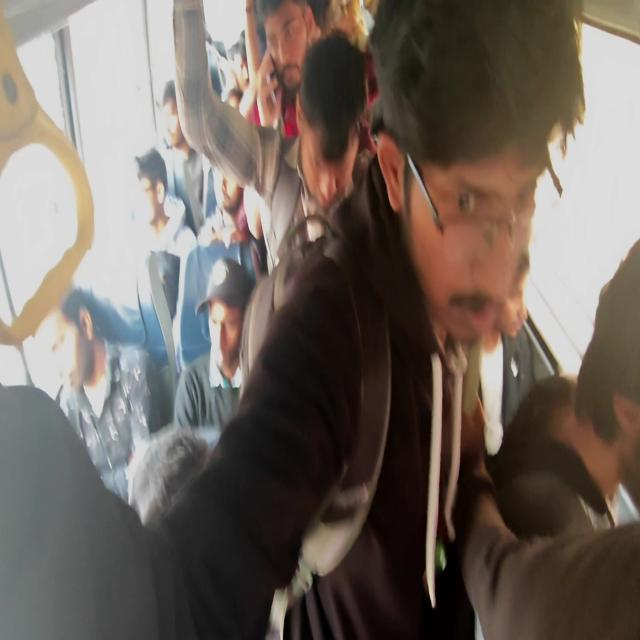person: (381, 15, 555, 331), (134, 455, 234, 640), (40, 302, 139, 476), (572, 285, 640, 502), (302, 61, 358, 198), (258, 0, 320, 86), (132, 154, 187, 250), (214, 262, 254, 382), (204, 162, 247, 254), (220, 89, 248, 158), (162, 90, 190, 151), (189, 21, 213, 64), (224, 40, 244, 90)
